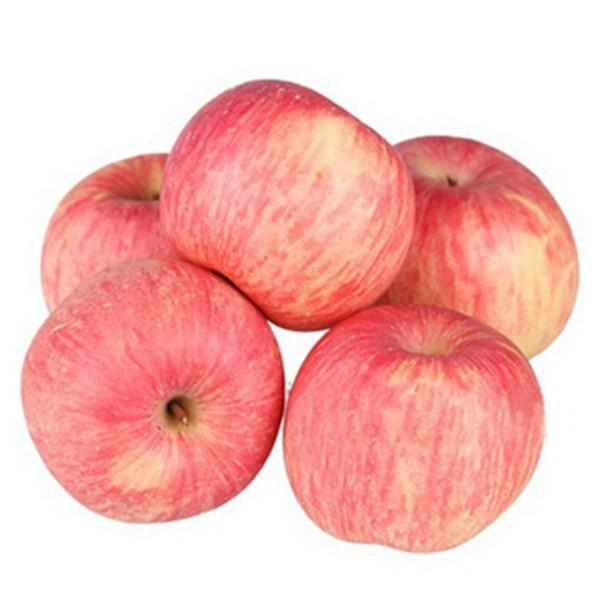apple: (26, 253, 292, 529), (156, 77, 412, 335), (289, 309, 551, 561), (389, 138, 580, 358), (41, 151, 177, 315)
